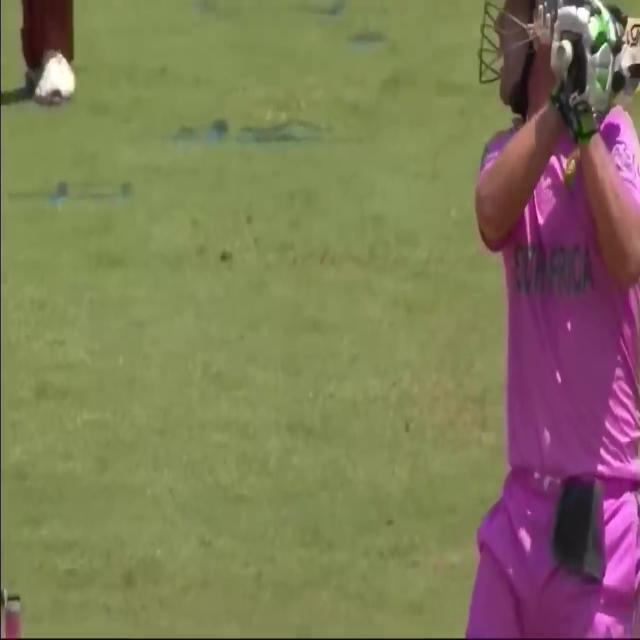Ball: (458, 0, 640, 637)
